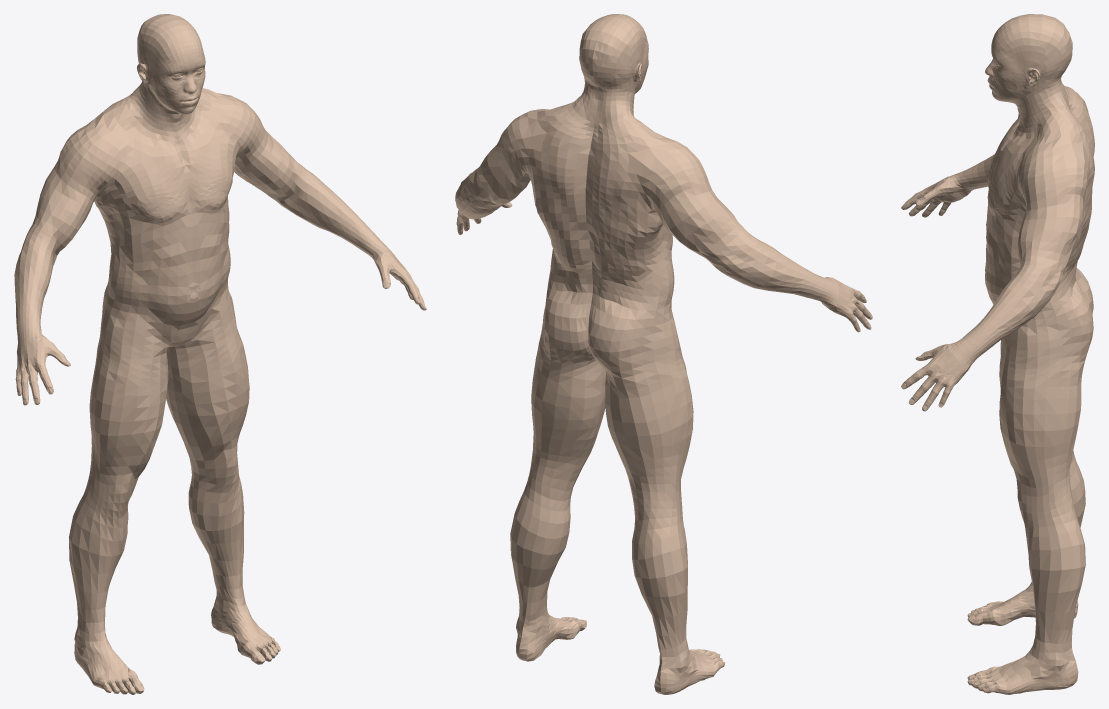
Rendered from male-young-max-high.glb.
3 renders of one model, left to right at view 1: azimuth 30°, elevation 25°; view 2: azimuth 150°, elevation 25°; view 3: azimuth 270°, elevation 25°, orthographic.
Visible parts, largest first — view 1: world; view 2: world; view 3: world.
Boxes of the visible parts, x1,y1,x2,y2 form: world: (14, 14, 426, 694); world: (455, 14, 872, 694); world: (901, 14, 1094, 694).
Size of the model in its own units: 1.24 by 1.89 by 0.5205.
